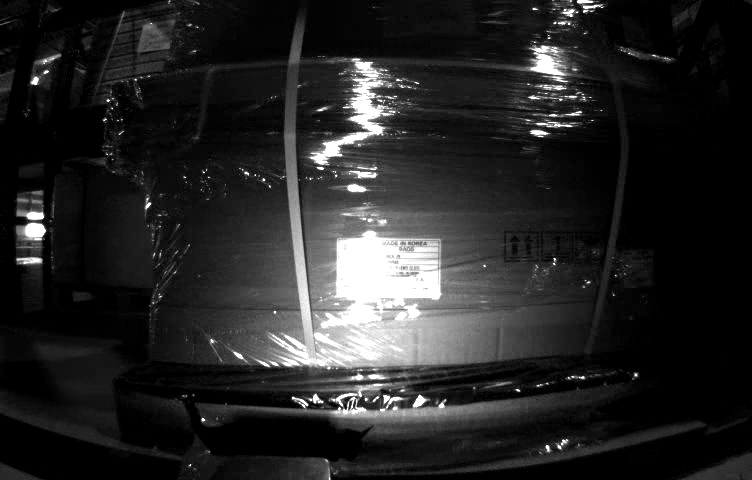True Barcode: (622, 248, 655, 289)
